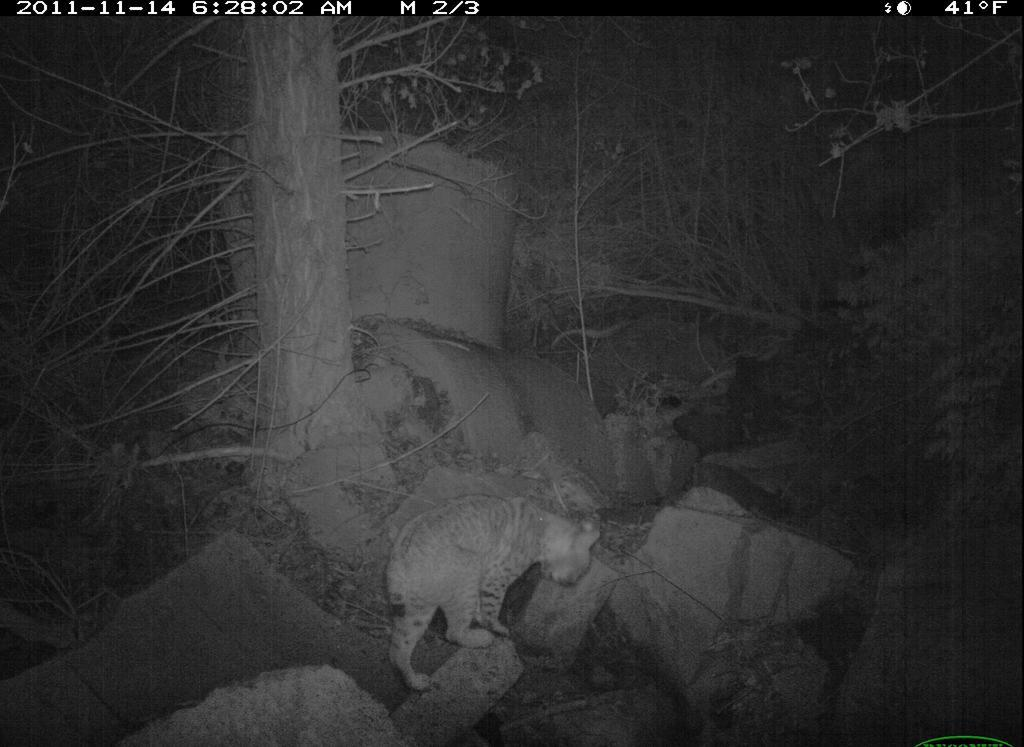bobcat: (376, 491, 610, 699)
